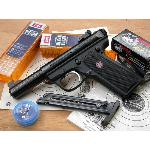Pistol: (7, 29, 143, 100)
